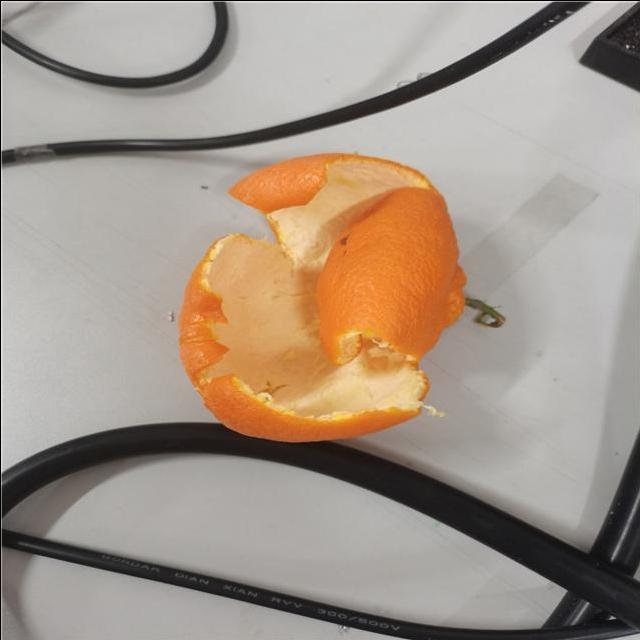orange peel: (173, 145, 507, 442)
